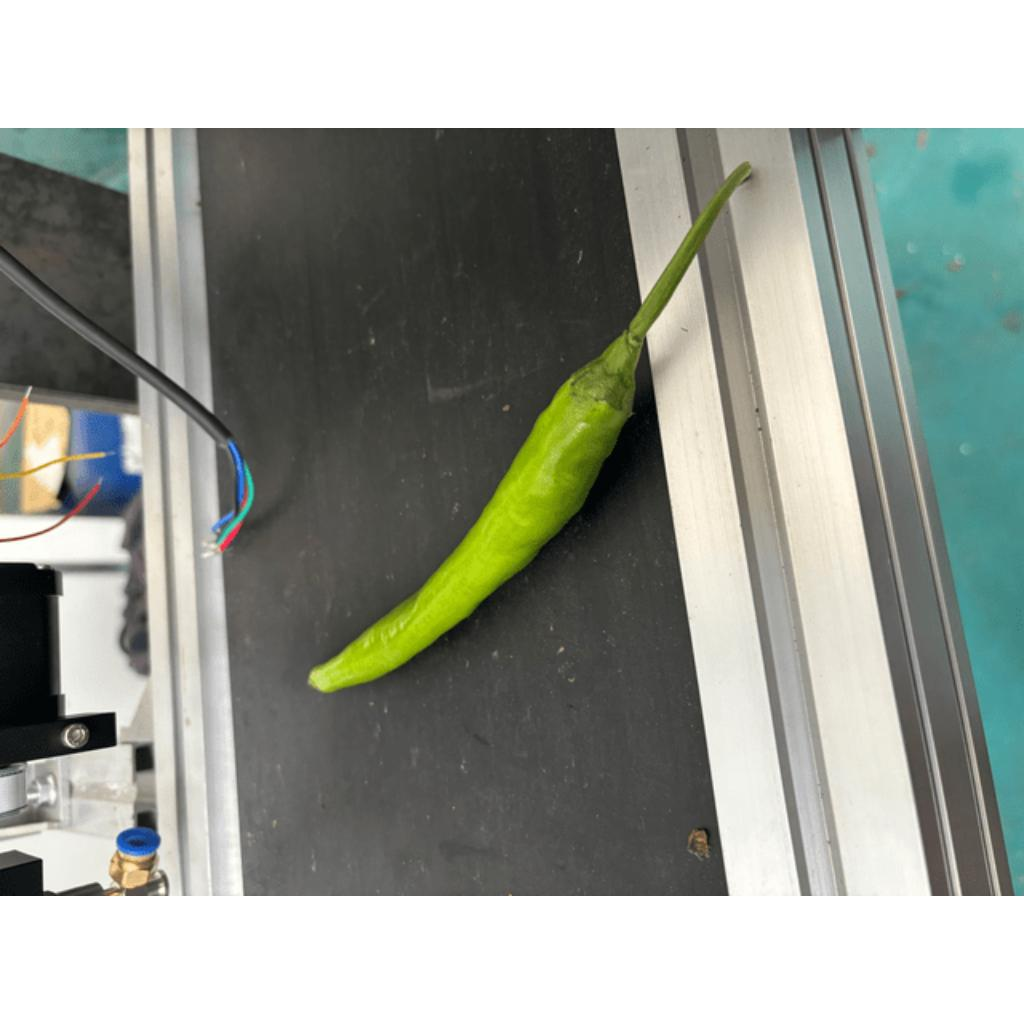chili: (302, 355, 641, 693)
